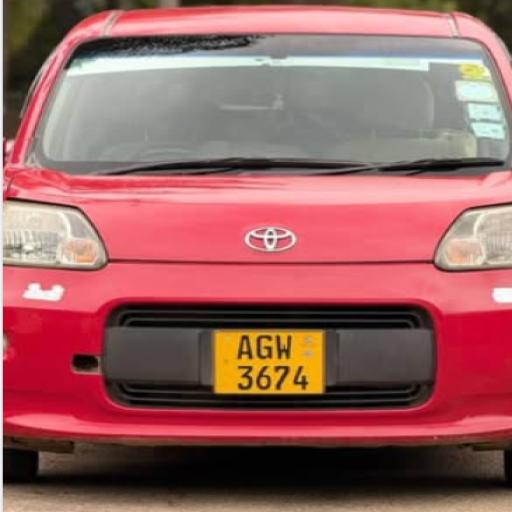number-plates: (219, 332, 319, 394)
